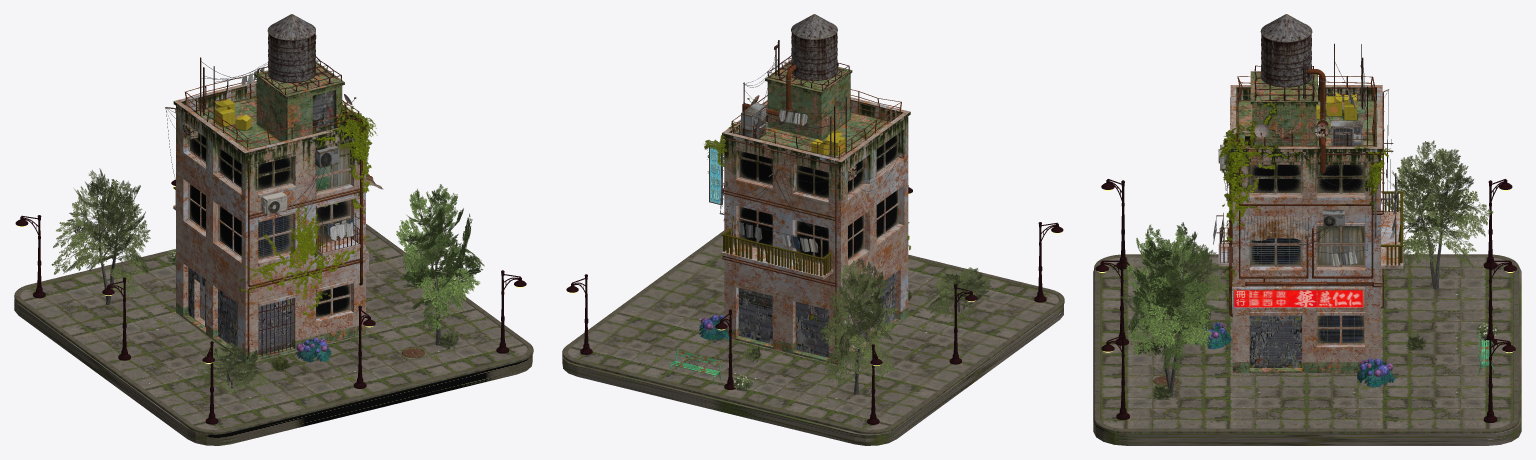
File: finalbuilding.gltf
3 views of the same model, side by side, from view 1: azimuth 30°, elevation 25°; view 2: azimuth 150°, elevation 25°; view 3: azimuth 270°, elevation 25° (orthographic). The views are drawn at different scales.
Parts seen in each view (by area): view 1: BUILDING, PAVEMENT-plane-ok, Tree-03-1, Tree-01-1, PAVEMENT-base, IvyLeaf.002, Bush-05, IvyLeaf, window-5-fan, window-1, hydrangea.001, street-light.003 (+4 smaller); view 2: BUILDING, PAVEMENT-plane-ok, PAVEMENT-base, Tree-01-1, Bush-05, window-4-clothes, Iron_Bench, hydrangea, street-light.002, street-light, window-2, street-light.005; view 3: PAVEMENT-plane-ok, BUILDING, Tree-03-1, Tree-01-1, PAVEMENT-base, IvyLeaf, window-3-front, Bush-05, hydrangea, street-light.005, street-light.003, street-light.006 (+5 smaller).
Boxes of the visible parts, x1,y1,x2,y2 form: BUILDING: (165,14,383,362); PAVEMENT-plane-ok: (14,224,533,434); Tree-03-1: (396,184,484,345); Tree-01-1: (51,168,150,304); PAVEMENT-base: (14,299,532,445); IvyLeaf.002: (239,203,370,316); Bush-05: (196,342,267,395); IvyLeaf: (314,75,377,213); window-5-fan: (258,157,291,190); window-1: (316,284,349,317); hydrangea.001: (296,337,331,362); street-light.003: (496,270,526,353); BUILDING: (709,14,910,364); PAVEMENT-plane-ok: (562,230,1064,434); PAVEMENT-base: (562,304,1063,445); Tree-01-1: (819,259,898,394); Bush-05: (926,267,991,324); window-4-clothes: (796,165,828,198); Iron_Bench: (669,350,721,385); hydrangea: (699,315,729,340); street-light.002: (1034,222,1063,302); street-light: (949,284,977,364); window-2: (848,215,863,259); street-light.005: (566,274,592,354); PAVEMENT-plane-ok: (1094,254,1519,433); BUILDING: (1216,14,1403,372); Tree-03-1: (1119,222,1220,397); Tree-01-1: (1386,140,1493,289); PAVEMENT-base: (1093,266,1521,445); IvyLeaf: (1218,102,1310,240); window-3-front: (1250,164,1301,192); Bush-05: (1157,243,1228,301); hydrangea: (1357,358,1394,387); street-light.005: (1483,334,1515,422); street-light.003: (1101,331,1129,420); street-light.006: (1095,257,1128,345).
Size of the model in its own units: 19.81 by 18.11 by 20.23.
